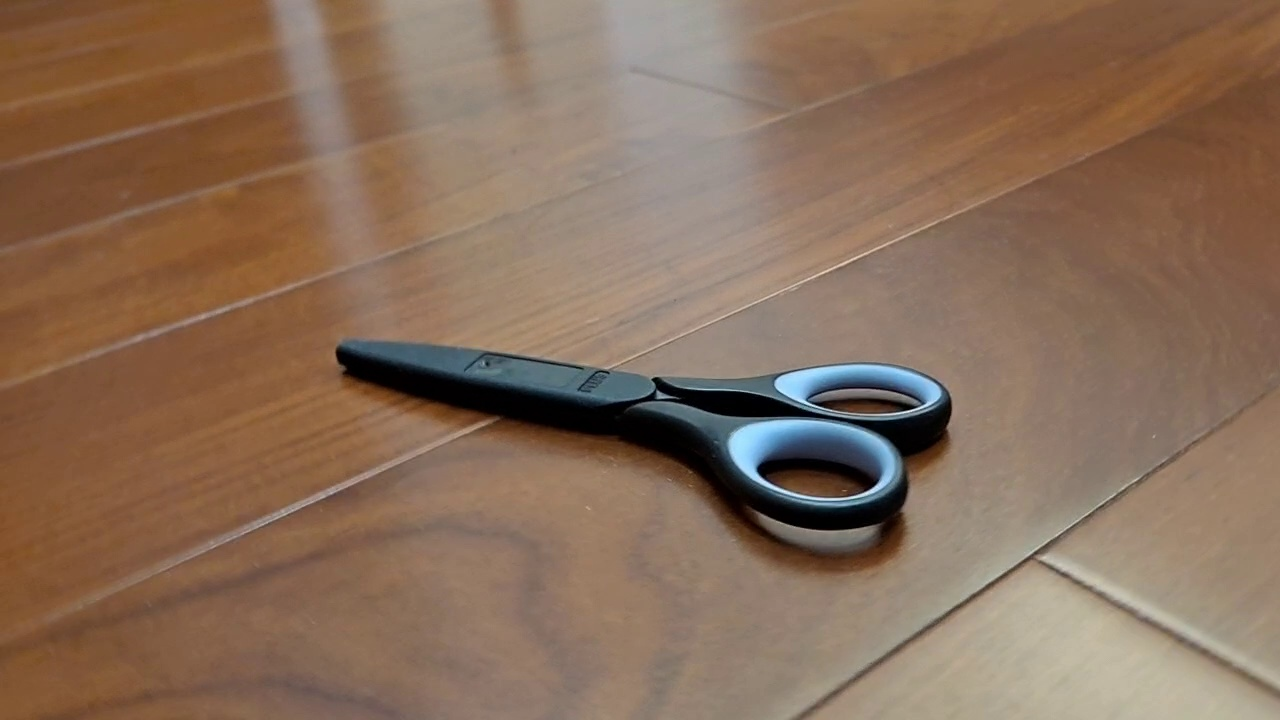scissors: (333, 335, 953, 532)
